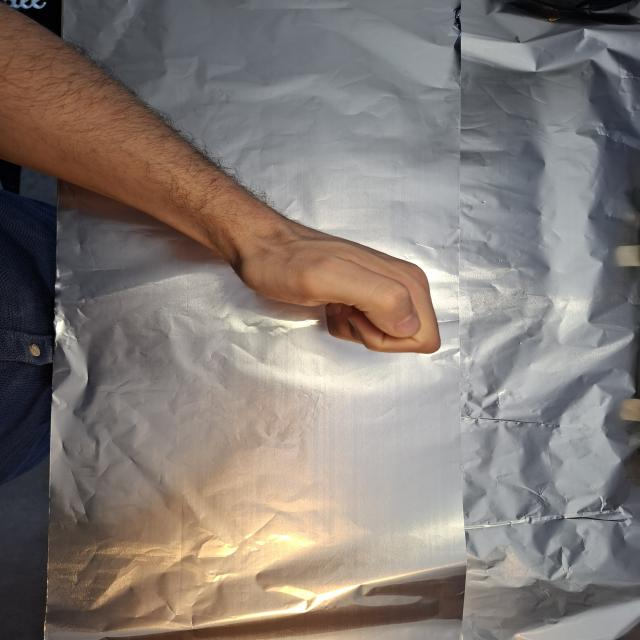glove_off: (220, 209, 444, 357)
